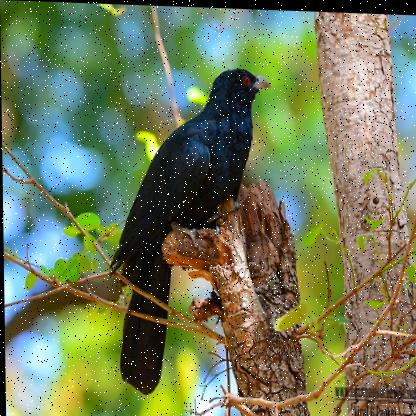Burung: (105, 62, 274, 399)
